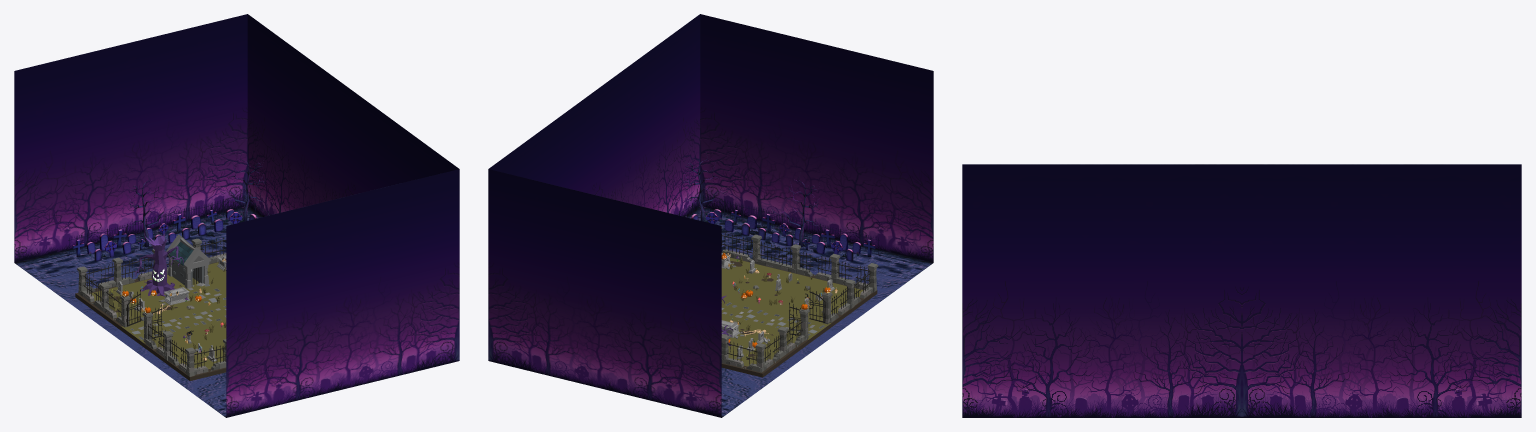
The model's file is garage.fbx.
3 renders of one model, left to right at view 1: azimuth 30°, elevation 25°; view 2: azimuth 150°, elevation 25°; view 3: azimuth 270°, elevation 25°, orthographic. The views are drawn at different scales.
Parts seen in each view (by area): view 1: obj_bg_Opaque1_Prop_0, obj_bg_Opaque1_Prop_0.001, obj_graves_Opaque1_Prop_0, Small_Crypt, Spooky_Tree__A, obj_barrier_Opaque1_Prop_0, Stone_patterns_A.001, Stone_patterns_A.005, Grass_tile_corner_D__1_, Stone_patterns_A.002, Grass_tile_in_A, Grass_tile_mid_A__4_ (+8 smaller); view 2: obj_bg_Opaque1_Prop_0.001, obj_bg_Opaque1_Prop_0, obj_graves_Opaque1_Prop_0.001, obj_barrier_Opaque1_Prop_0.001, Grass_tile_in_A, Grass_tile_in_D, Stone_patterns_A.001, Stone_patterns_A.002, Grass_tile_mid_D__1_, Grass_tile_corner_A__1_, Grass_tile_mid_C__2_, obj_grass_Trans1_Prop_0.001 (+10 smaller); view 3: obj_bg_Opaque1_Prop_0, obj_bg_Opaque1_Prop_0.001.
Boxes of the visible parts, bbox=[...] form: obj_bg_Opaque1_Prop_0: bbox=[14, 14, 353, 340]; obj_bg_Opaque1_Prop_0.001: bbox=[120, 92, 459, 417]; obj_graves_Opaque1_Prop_0: bbox=[72, 209, 256, 261]; Small_Crypt: bbox=[166, 234, 210, 288]; Spooky_Tree__A: bbox=[134, 233, 183, 296]; obj_barrier_Opaque1_Prop_0: bbox=[68, 195, 272, 253]; Stone_patterns_A.001: bbox=[152, 311, 205, 335]; Stone_patterns_A.005: bbox=[186, 281, 226, 307]; Grass_tile_corner_D__1_: bbox=[167, 350, 226, 380]; Stone_patterns_A.002: bbox=[184, 304, 226, 328]; Grass_tile_in_A: bbox=[184, 324, 226, 350]; Grass_tile_mid_A__4_: bbox=[144, 334, 206, 363]; obj_bg_Opaque1_Prop_0.001: bbox=[594, 14, 933, 340]; obj_bg_Opaque1_Prop_0: bbox=[488, 92, 827, 417]; obj_graves_Opaque1_Prop_0.001: bbox=[691, 209, 875, 261]; obj_barrier_Opaque1_Prop_0.001: bbox=[675, 195, 879, 253]; Grass_tile_in_A: bbox=[752, 287, 814, 313]; Grass_tile_in_D: bbox=[721, 277, 774, 303]; Stone_patterns_A.001: bbox=[747, 308, 799, 332]; Stone_patterns_A.002: bbox=[721, 300, 768, 324]; Grass_tile_mid_D__1_: bbox=[781, 273, 833, 296]; Grass_tile_corner_A__1_: bbox=[723, 347, 785, 377]; Grass_tile_mid_C__2_: bbox=[735, 263, 793, 286]; obj_grass_Trans1_Prop_0.001: bbox=[703, 211, 859, 269]; obj_bg_Opaque1_Prop_0: bbox=[1242, 164, 1521, 417]; obj_bg_Opaque1_Prop_0.001: bbox=[962, 164, 1241, 417].
Bounding box in the file's own units: 191 × 154 × 300.
9 materials, 4 textured.
